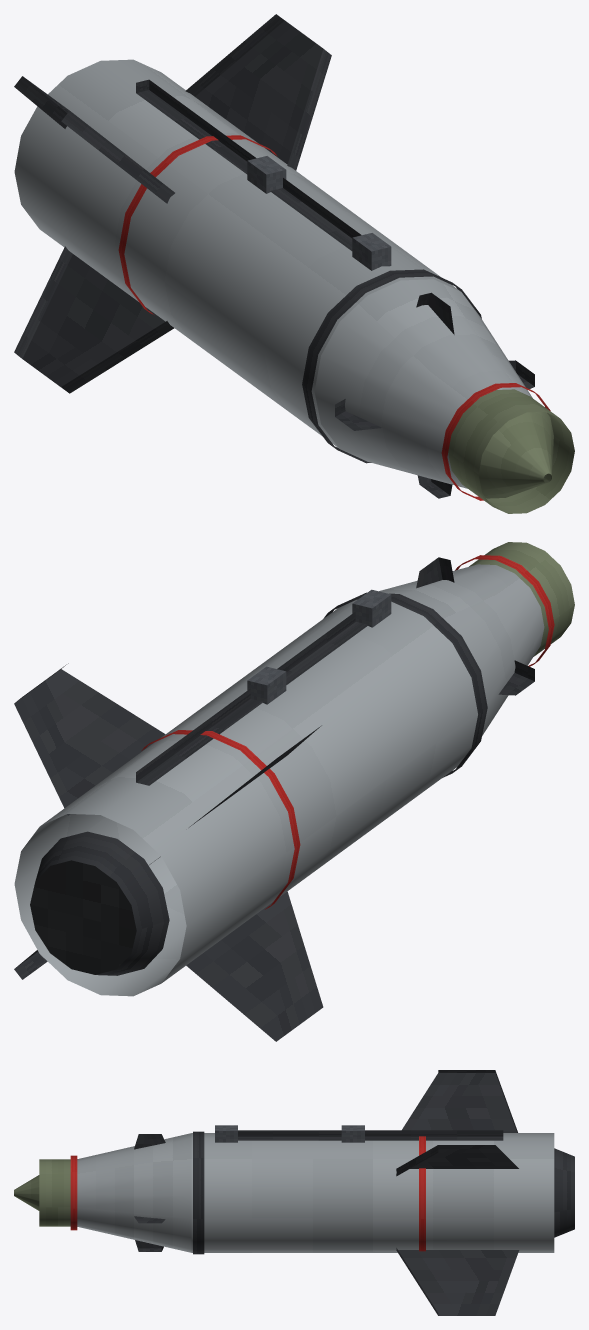
File: missile_tactical_he.glb
The picture shows the model from 3 angles, top to bottom: view 1: azimuth 30°, elevation 25°; view 2: azimuth 150°, elevation 25°; view 3: azimuth 270°, elevation 25°; orthographic projection. The views are drawn at different scales.
Visible parts, largest first — view 1: body; view 2: body; view 3: body.
Boxes of the visible parts, left/top/right/bottom form: body: left=14, top=14, right=574, bottom=513; body: left=14, top=542, right=574, bottom=1041; body: left=14, top=1070, right=574, bottom=1315.
Bounding box in the file's own units: 0.8174 × 0.8174 × 2.43.
1 material, 1 textured.
